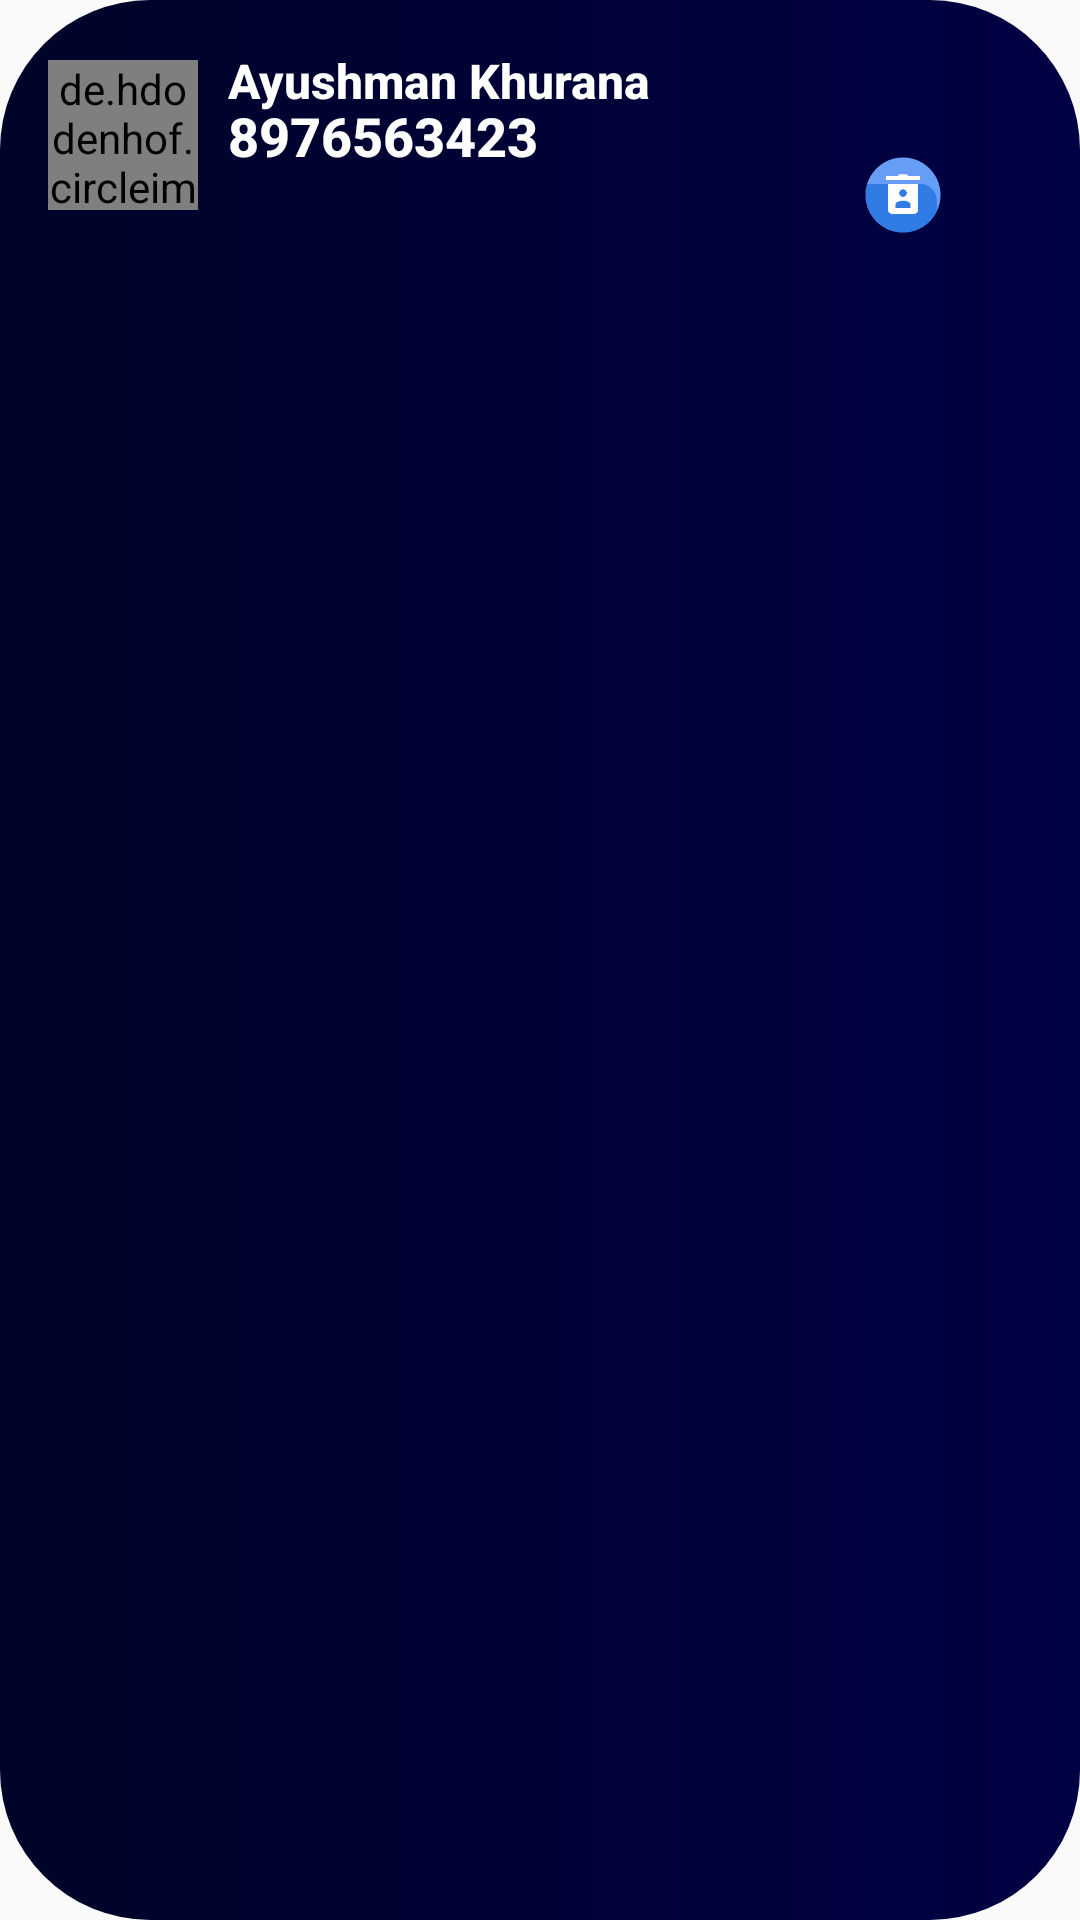

Screen size 1080×1920. Icon name, then its box in pixels as (x1, y1, x2, y2):
deleting: (865, 157, 941, 233)
